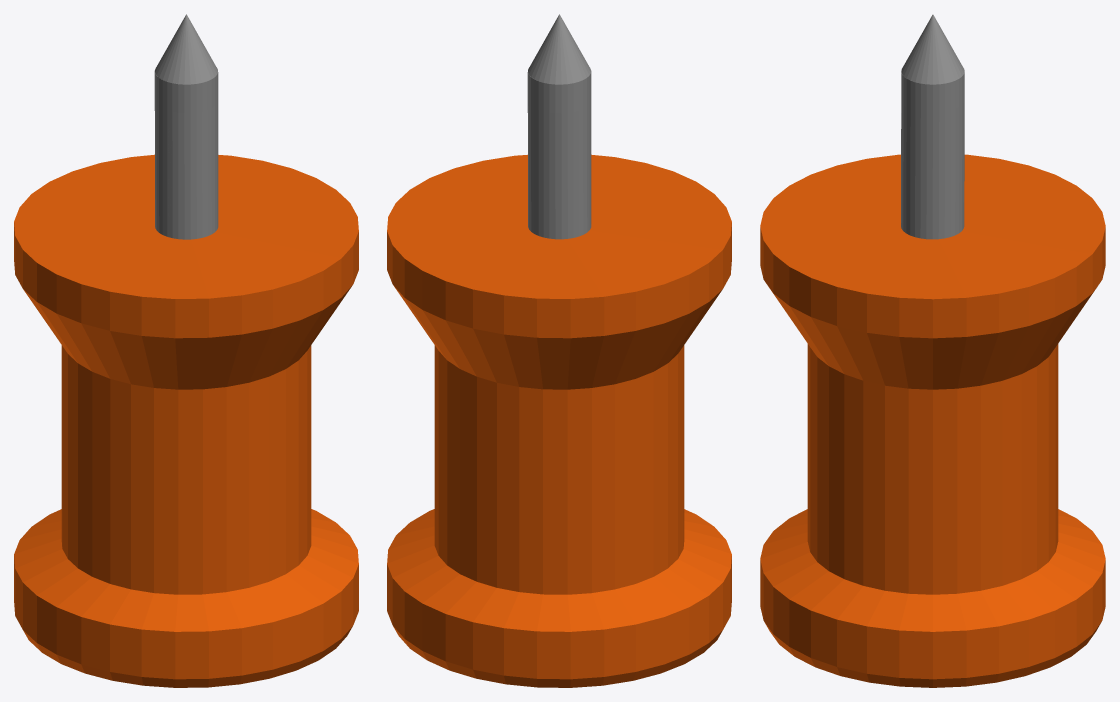
Rendered from punaiseOrange.glb.
3 views of the same model, side by side, from view 1: azimuth 30°, elevation 25°; view 2: azimuth 150°, elevation 25°; view 3: azimuth 270°, elevation 25° (orthographic).
Visible parts, largest first — view 1: Cylinder; view 2: Cylinder; view 3: Cylinder.
Part boxes in pixels (x1=…): Cylinder: x1=14, y1=14, x2=358, y2=687; Cylinder: x1=387, y1=14, x2=731, y2=687; Cylinder: x1=760, y1=14, x2=1105, y2=687.
Size of the model in its own units: 2 by 3.86 by 2.
